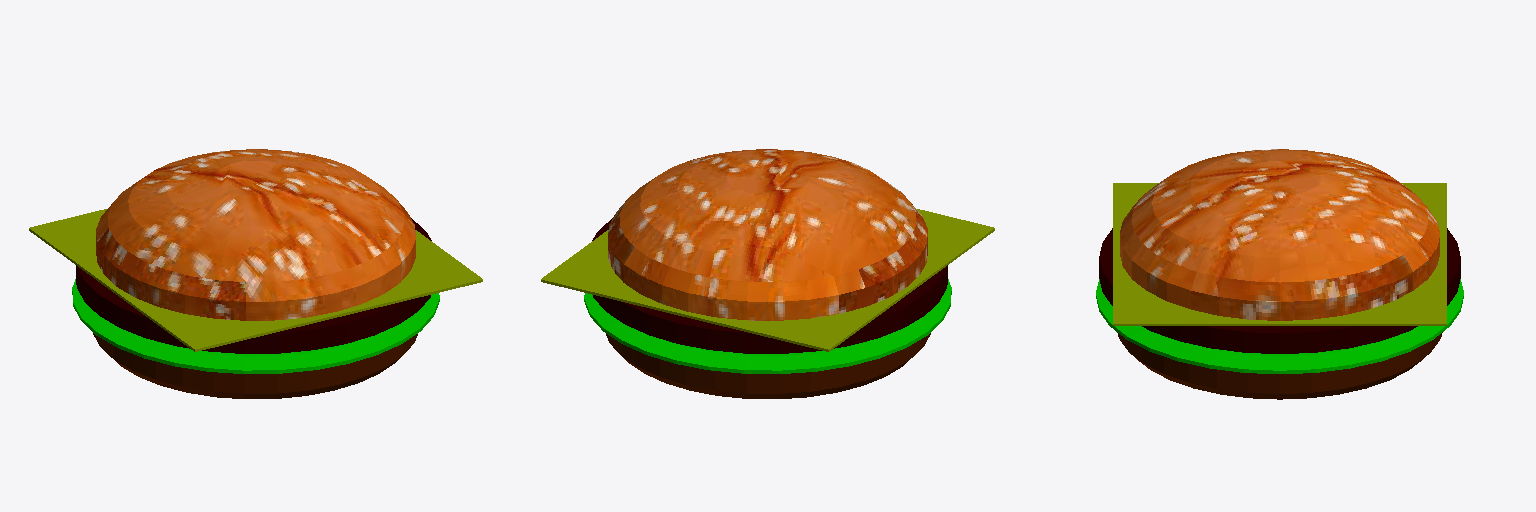
The picture shows the model from 3 angles: view 1: azimuth 30°, elevation 25°; view 2: azimuth 150°, elevation 25°; view 3: azimuth 270°, elevation 25°; orthographic projection.
Visible parts, largest first — view 1: Circle_Circle.001; view 2: Circle_Circle.001; view 3: Circle_Circle.001.
Boxes of the visible parts, x1=… form: Circle_Circle.001: x1=29, y1=149, x2=482, y2=398; Circle_Circle.001: x1=541, y1=149, x2=994, y2=398; Circle_Circle.001: x1=1096, y1=149, x2=1463, y2=399.
Bounding box in the file's own units: 2.95 × 1.38 × 2.95.
6 materials, 1 textured.